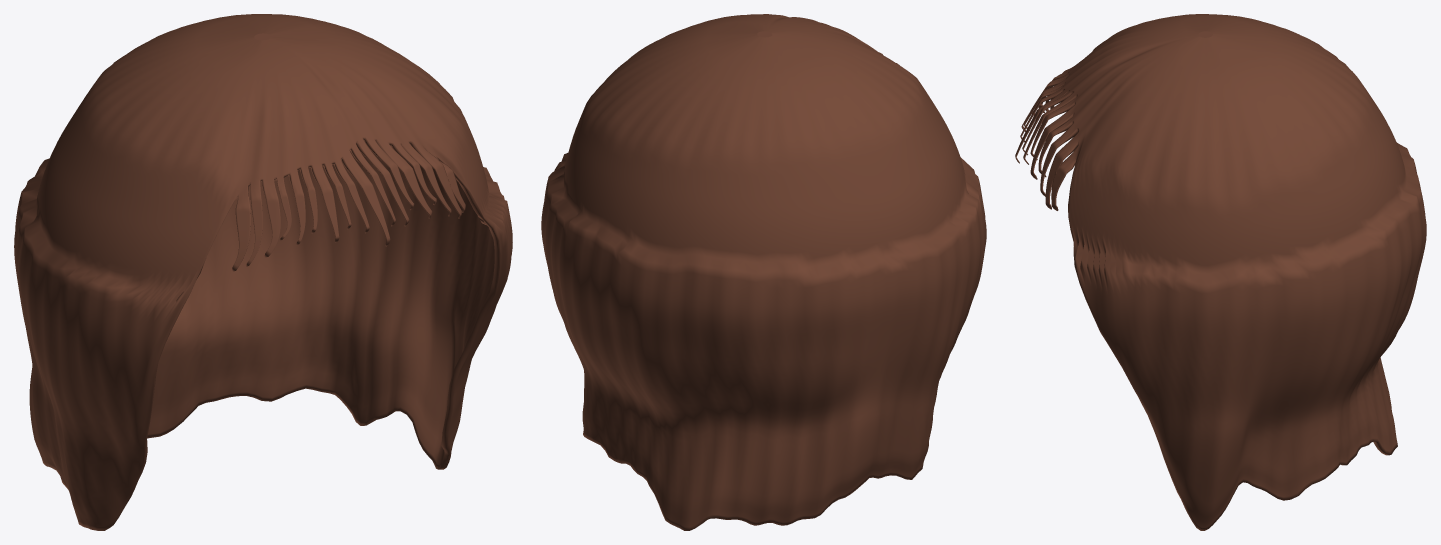
Rendered from side-sweep-beanie.glb.
The picture shows the model from 3 angles, left to right: view 1: azimuth 30°, elevation 25°; view 2: azimuth 150°, elevation 25°; view 3: azimuth 270°, elevation 25°; orthographic projection. The views are drawn at different scales.
Visible parts, largest first — view 1: Wispy bangs / continuous crown; view 2: Wispy bangs / continuous crown; view 3: Wispy bangs / continuous crown.
Boxes of the visible parts, x1,y1,x2,y2 form: Wispy bangs / continuous crown: (14, 14, 512, 530); Wispy bangs / continuous crown: (541, 14, 986, 530); Wispy bangs / continuous crown: (1015, 14, 1426, 530).
Bounding box in the file's own units: 0.8388 × 0.8786 × 0.7796.
